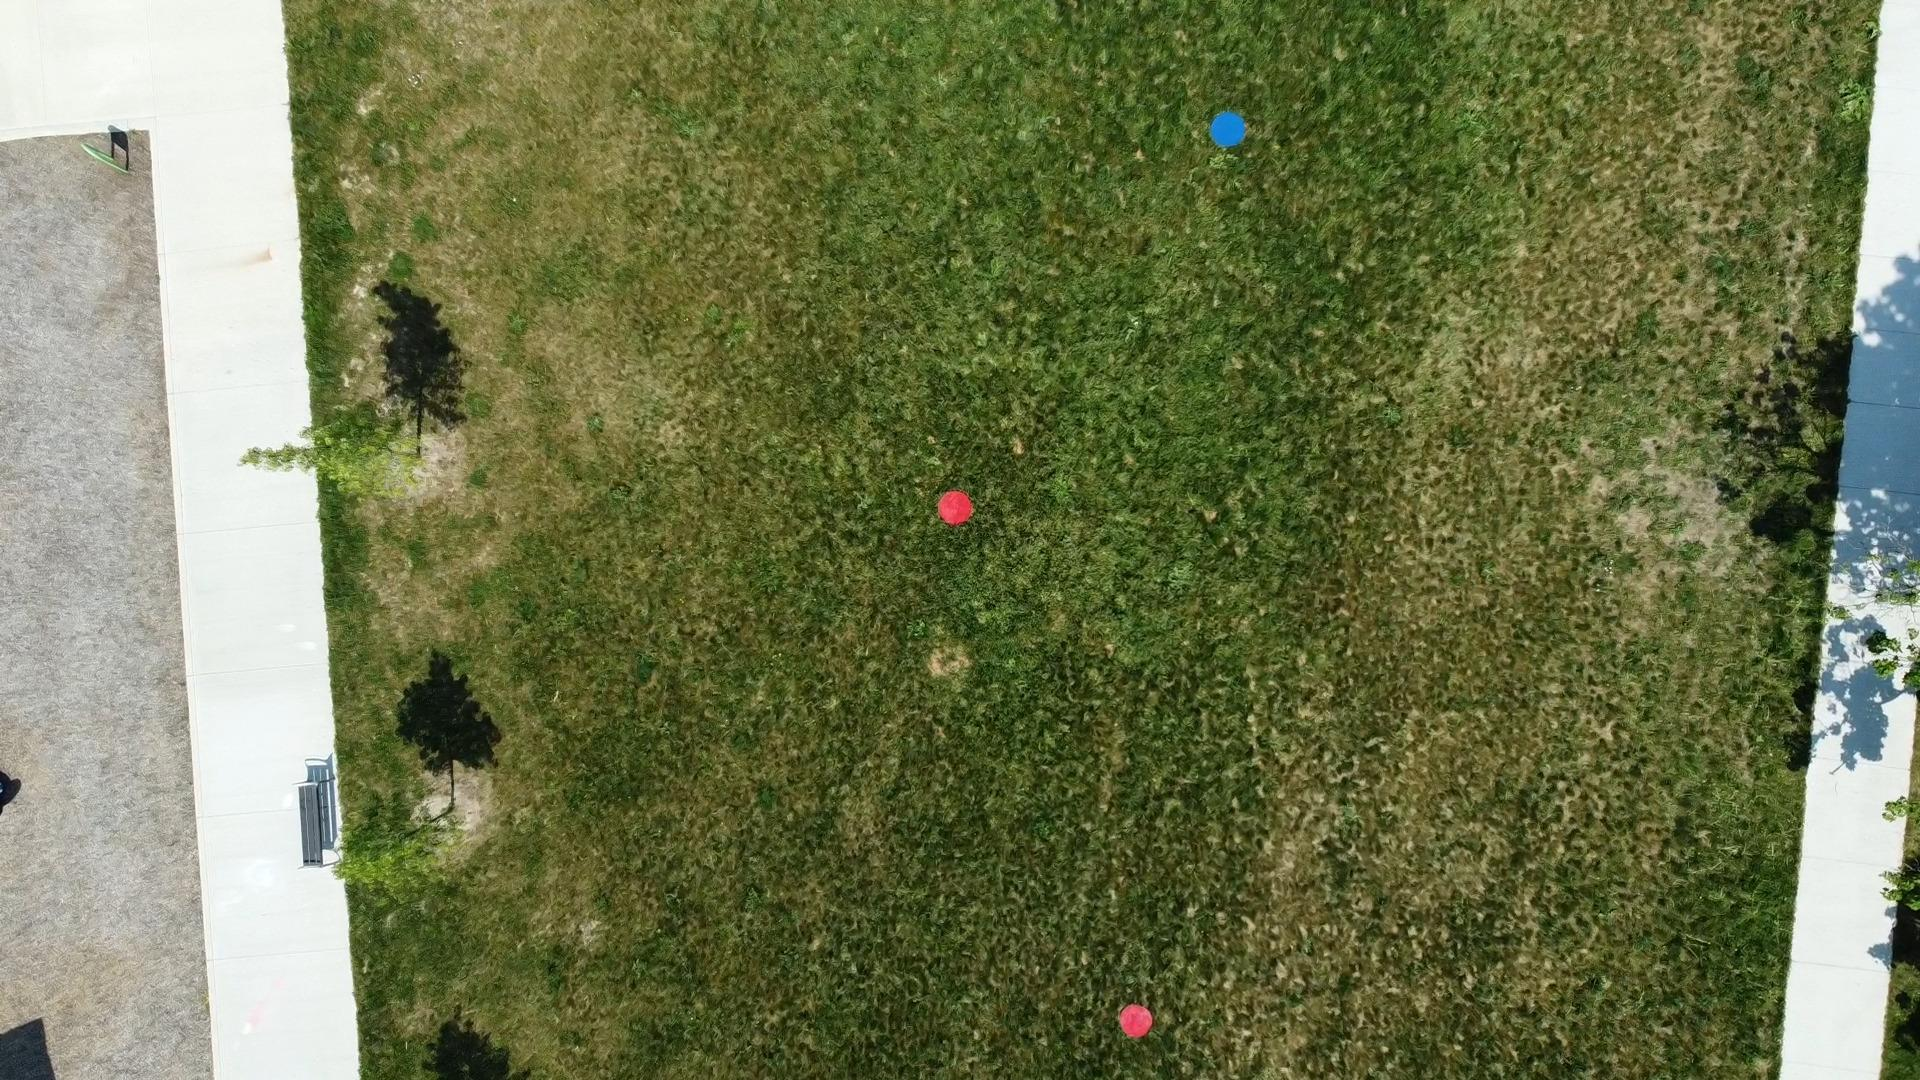Blue: (1208, 109, 1249, 149)
Red: (935, 489, 976, 527), (1117, 1002, 1155, 1039)
